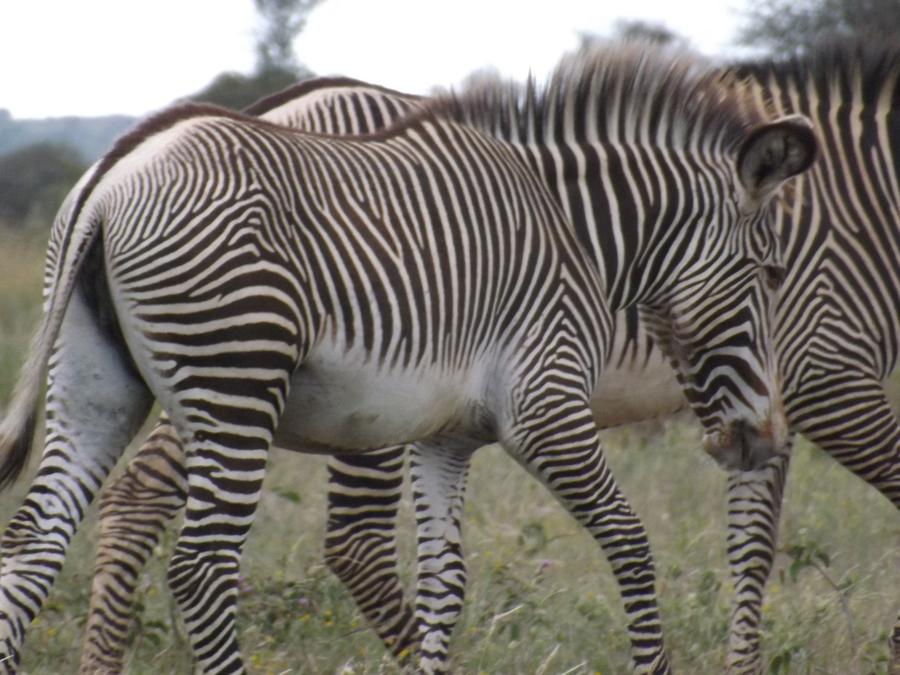zebra_grevys: (81, 100, 592, 396)
